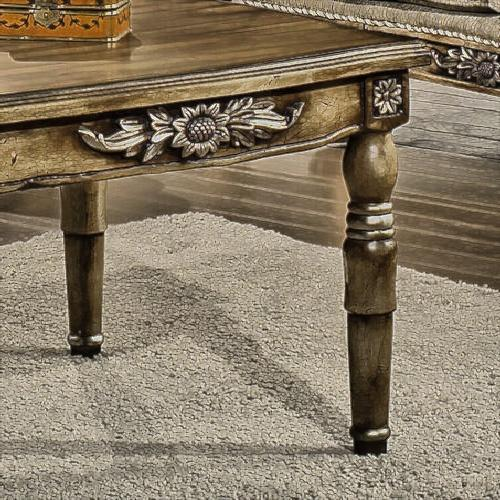sofa: (14, 24, 432, 431)
